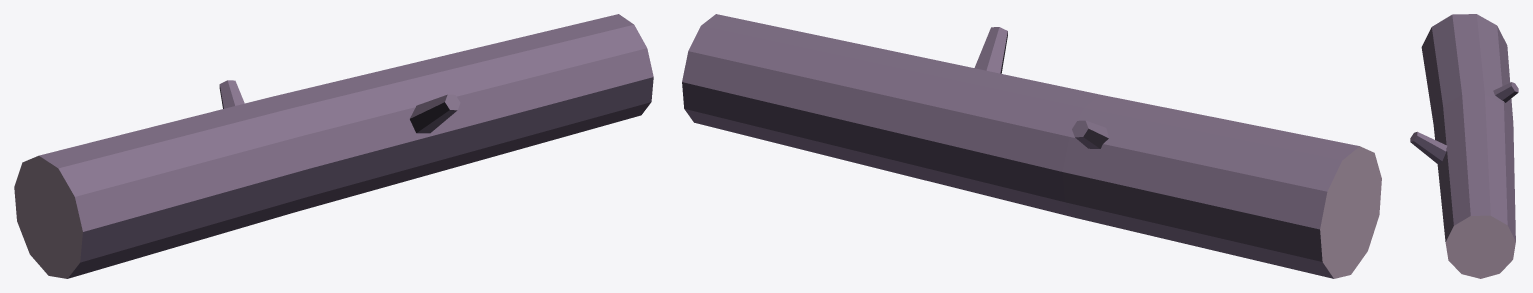
Rendered from TW_PROP_LOG_STRAIGHT_B_LOD0.glb.
3 views of the same model, side by side, from view 1: azimuth 30°, elevation 25°; view 2: azimuth 150°, elevation 25°; view 3: azimuth 270°, elevation 25° (orthographic). The views are drawn at different scales.
Visible parts, largest first — view 1: TW_PROP_LOG_STRAIGHT_B_LOD0; view 2: TW_PROP_LOG_STRAIGHT_B_LOD0; view 3: TW_PROP_LOG_STRAIGHT_B_LOD0.
Boxes of the visible parts, x1=… form: TW_PROP_LOG_STRAIGHT_B_LOD0: x1=14, y1=14, x2=653, y2=278; TW_PROP_LOG_STRAIGHT_B_LOD0: x1=682, y1=14, x2=1381, y2=278; TW_PROP_LOG_STRAIGHT_B_LOD0: x1=1410, y1=14, x2=1518, y2=278.
Size of the model in its own units: 2.57 by 0.4873 by 0.5983.
1 material, 1 textured.
